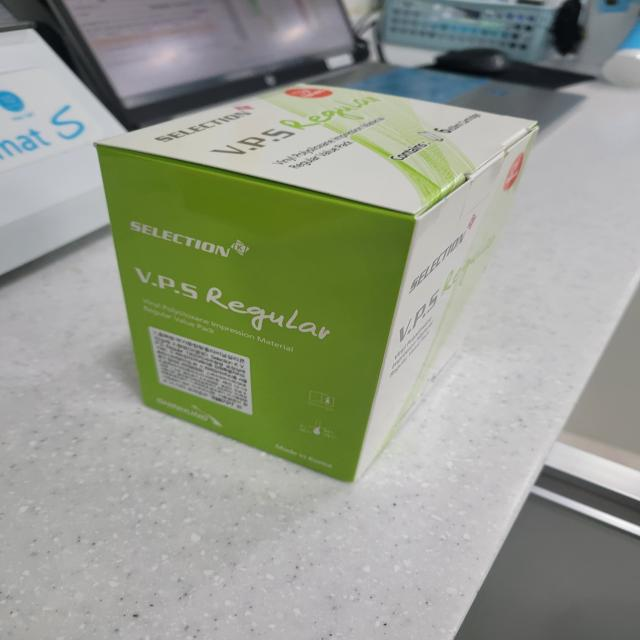impression: (71, 66, 563, 506)
